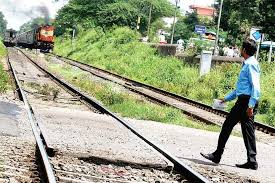crossing railway track: (198, 38, 263, 172)
